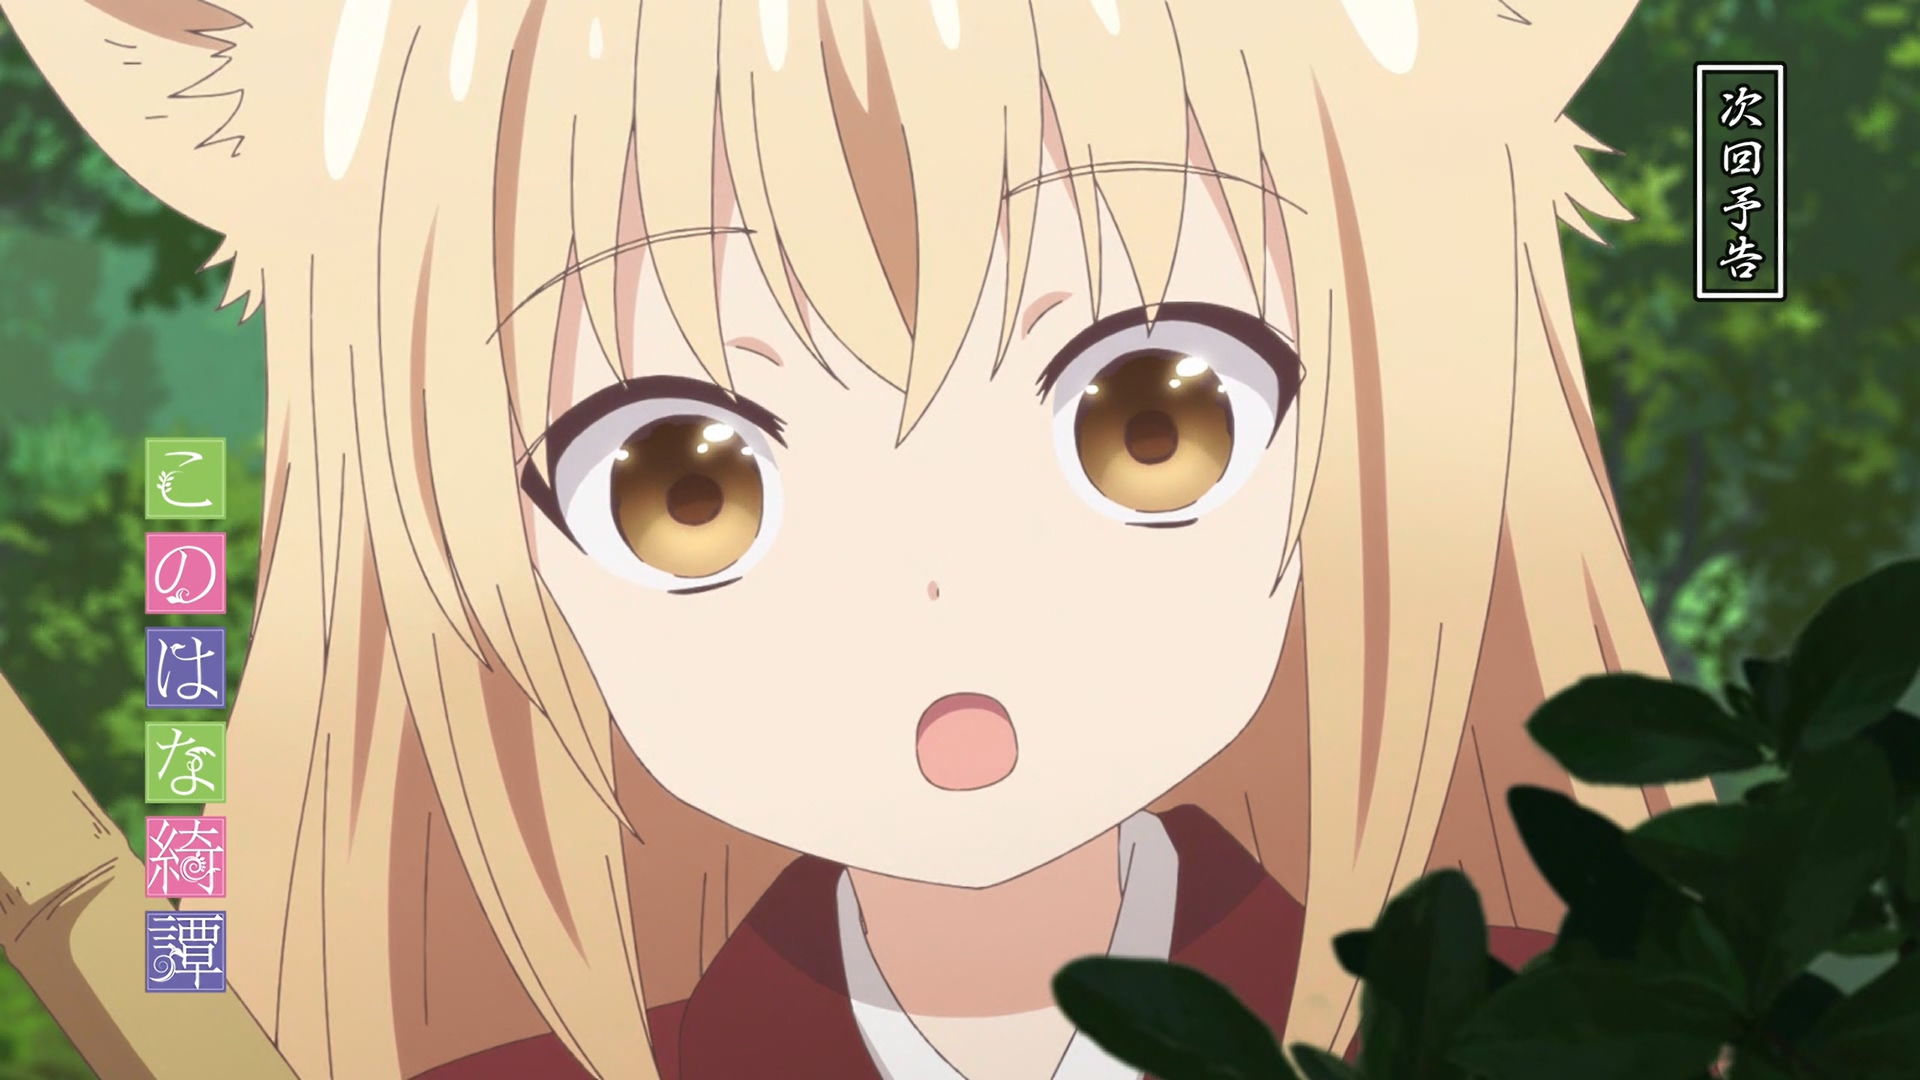柚: (1, 1, 1718, 1080)
